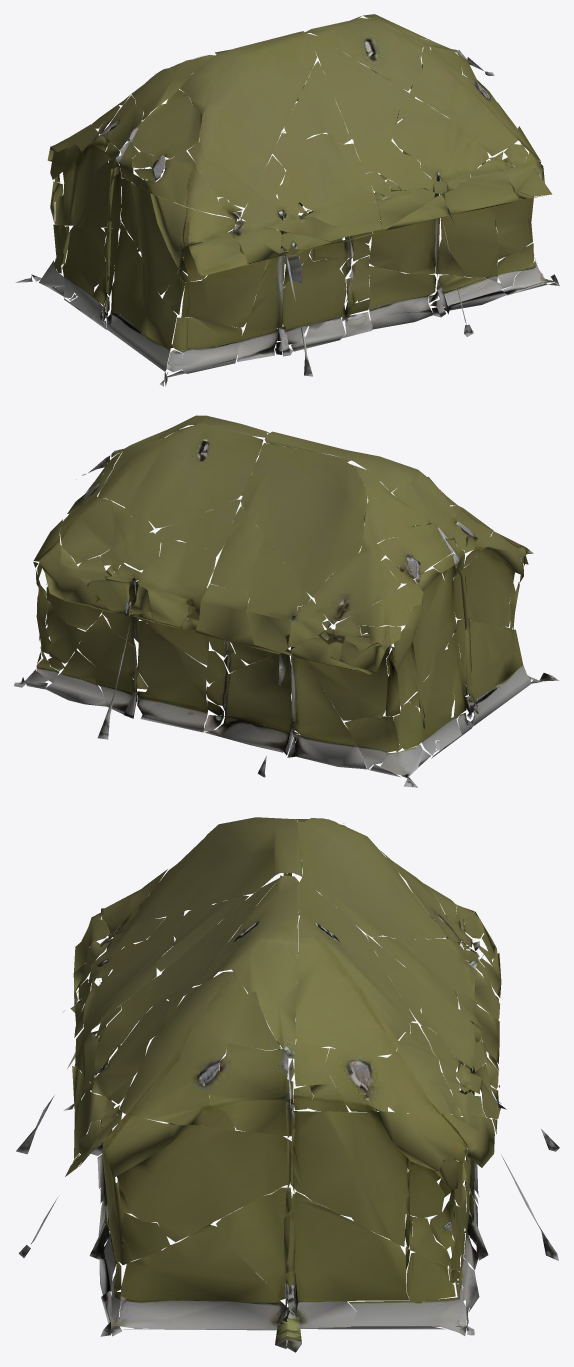
The model's file is prop_expedition_tent_LOD2.glb.
The picture shows the model from 3 angles, top to bottom: view 1: azimuth 30°, elevation 25°; view 2: azimuth 150°, elevation 25°; view 3: azimuth 270°, elevation 25°; orthographic projection. The views are drawn at different scales.
Parts seen in each view (by area): view 1: tripo_node_f8e14f25-867f-4e02-b513-935ae1ca1cbb; view 2: tripo_node_f8e14f25-867f-4e02-b513-935ae1ca1cbb; view 3: tripo_node_f8e14f25-867f-4e02-b513-935ae1ca1cbb.
Boxes of the visible parts, <box> form: tripo_node_f8e14f25-867f-4e02-b513-935ae1ca1cbb: <box>15,14,559,386</box>; tripo_node_f8e14f25-867f-4e02-b513-935ae1ca1cbb: <box>14,415,559,787</box>; tripo_node_f8e14f25-867f-4e02-b513-935ae1ca1cbb: <box>16,817,559,1352</box>.
Size of the model in its own units: 1 by 0.5491 by 0.7968.
Materials: 1 (1 with a texture image).
